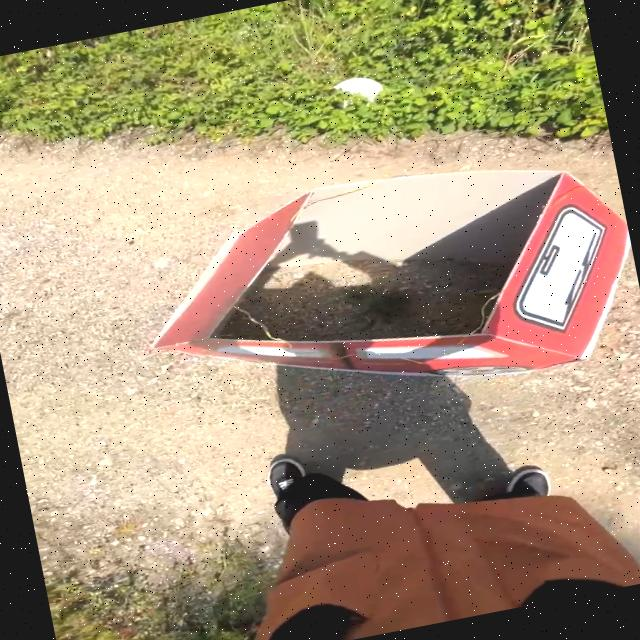red_car: (102, 120, 640, 461)
